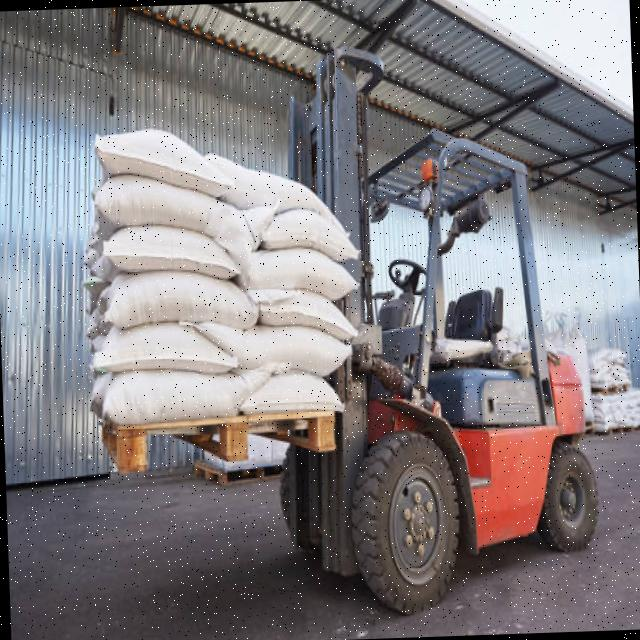Wooden-Pallets: (114, 410, 336, 472)
